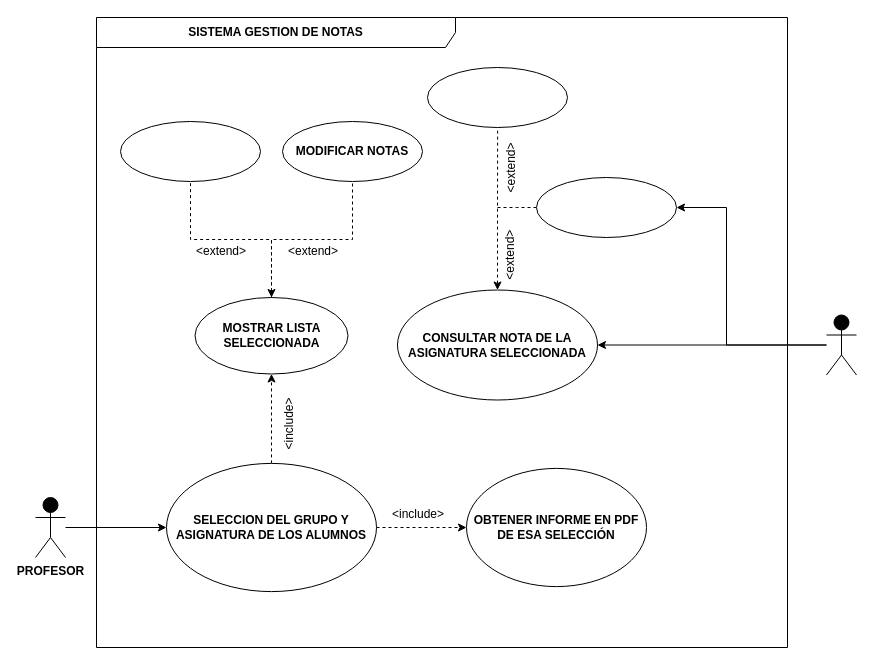
Some shapes in this 885 by 665 pixel diagram are drawn without their labels. The box of each missing label's shape, as (x1, y1, x2, y2) in pixels:
ALUMNO: (826, 314, 856, 375)
CONSULTAR TODAS LAS NOTAS: (536, 176, 676, 238)
INTRODUCIR NOTAS: (120, 120, 260, 182)
OBTENER INFORME DE LAS NOTAS: (426, 66, 568, 128)
